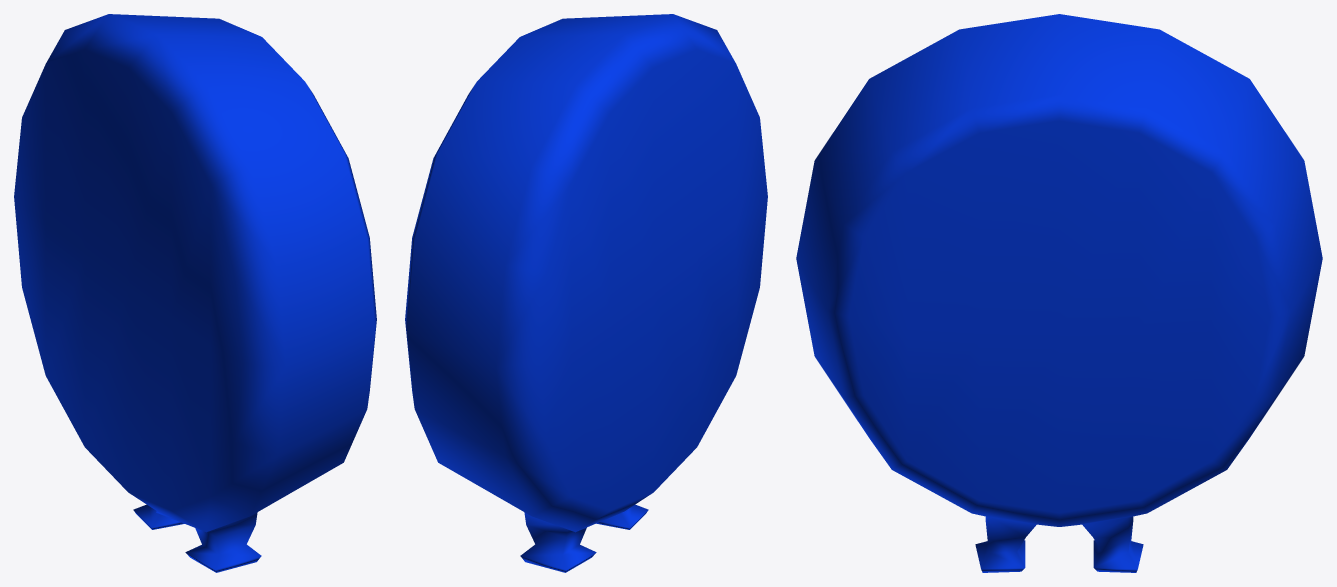
The model's file is Caterpillar_Part_07.fbx.
3 renders of one model, left to right at view 1: azimuth 30°, elevation 25°; view 2: azimuth 150°, elevation 25°; view 3: azimuth 270°, elevation 25°, orthographic. The views are drawn at different scales.
Visible parts, largest first — view 1: Caterpillar_Part_07; view 2: Caterpillar_Part_07; view 3: Caterpillar_Part_07.
Boxes of the visible parts, bbox=[...] form: Caterpillar_Part_07: bbox=[14, 14, 376, 572]; Caterpillar_Part_07: bbox=[405, 14, 767, 572]; Caterpillar_Part_07: bbox=[796, 14, 1322, 572].
Size of the model in its own units: 8.73 by 29.39 by 26.55.
